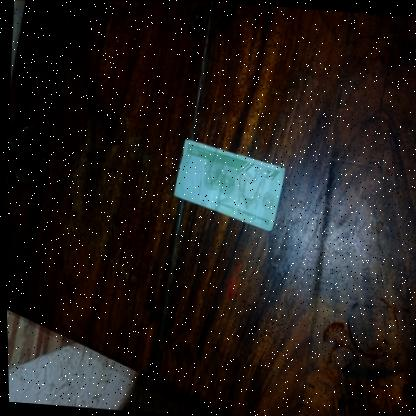fifty-back-vef: (168, 138, 287, 232)
